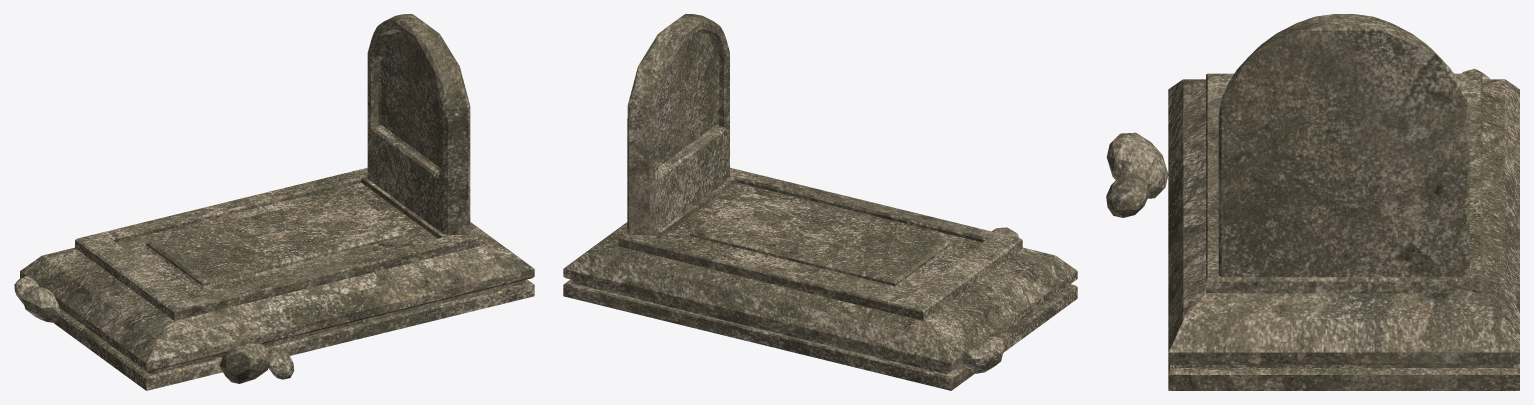
File: Grave_1_HP.glb
3 renders of one model, left to right at view 1: azimuth 30°, elevation 25°; view 2: azimuth 150°, elevation 25°; view 3: azimuth 270°, elevation 25°, orthographic. The views are drawn at different scales.
Parts seen in each view (by area): view 1: HP_Grave_1; view 2: HP_Grave_1; view 3: HP_Grave_1.
Part boxes in pixels (x1,y1,x2,y2): HP_Grave_1: (14,14,534,390); HP_Grave_1: (563,14,1077,390); HP_Grave_1: (1106,14,1519,390).
Bounding box in the file's own units: 0.8556 × 0.489 × 0.5353.
Materials: 1 (1 with a texture image).
